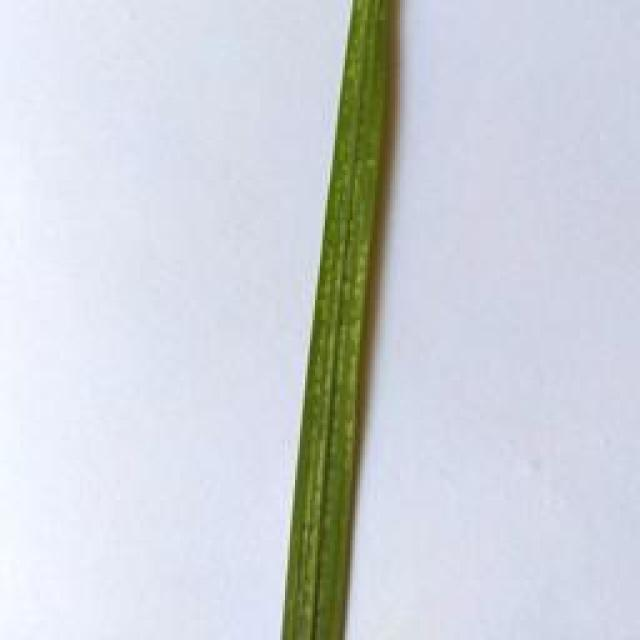Healthy-Plant: (279, 0, 392, 640)
